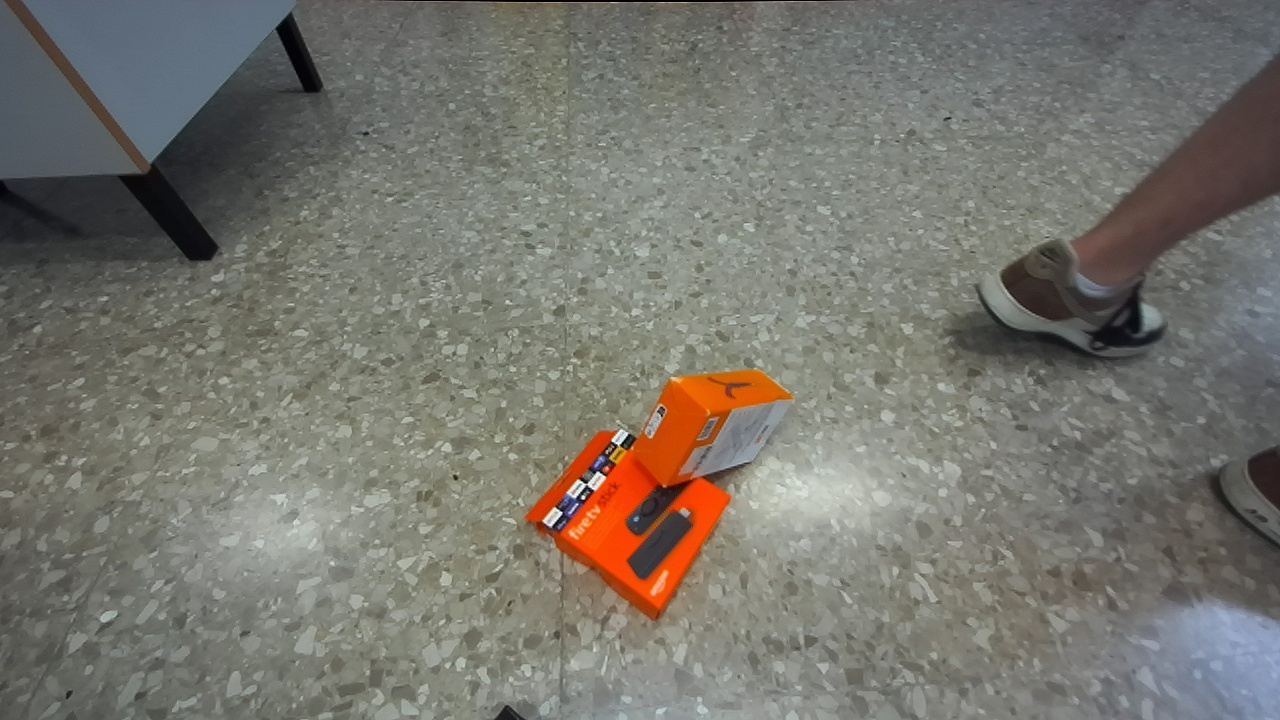caja_manguera: (527, 430, 731, 619)
caja_pcb: (632, 369, 793, 485)
